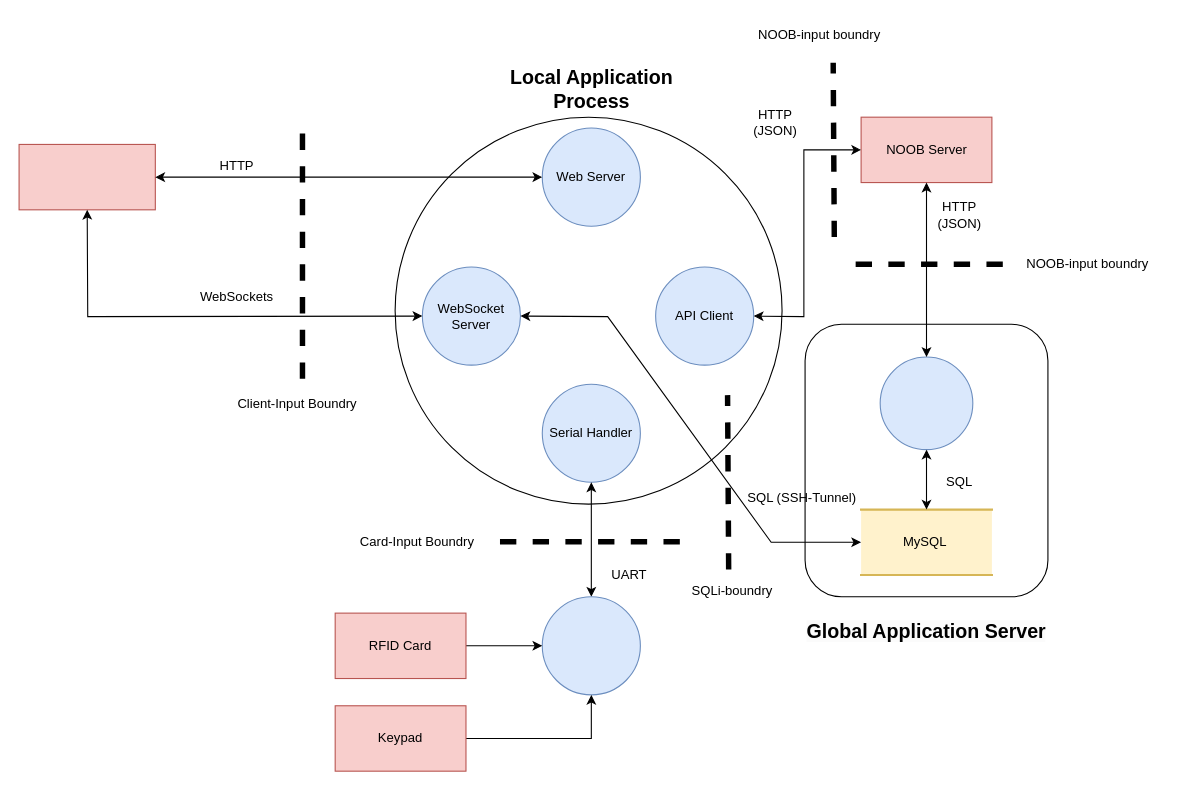
This 1183x790 diagram has some shape labels left out. The shapes that lost their labels are listed below. From the top down, each one's box as (x1, y1, x2, y2) in pixels, then its label:
(18, 143, 155, 210): Client (Bij ATM)
(879, 356, 973, 450): API Server
(541, 596, 640, 695): Microcontroller
